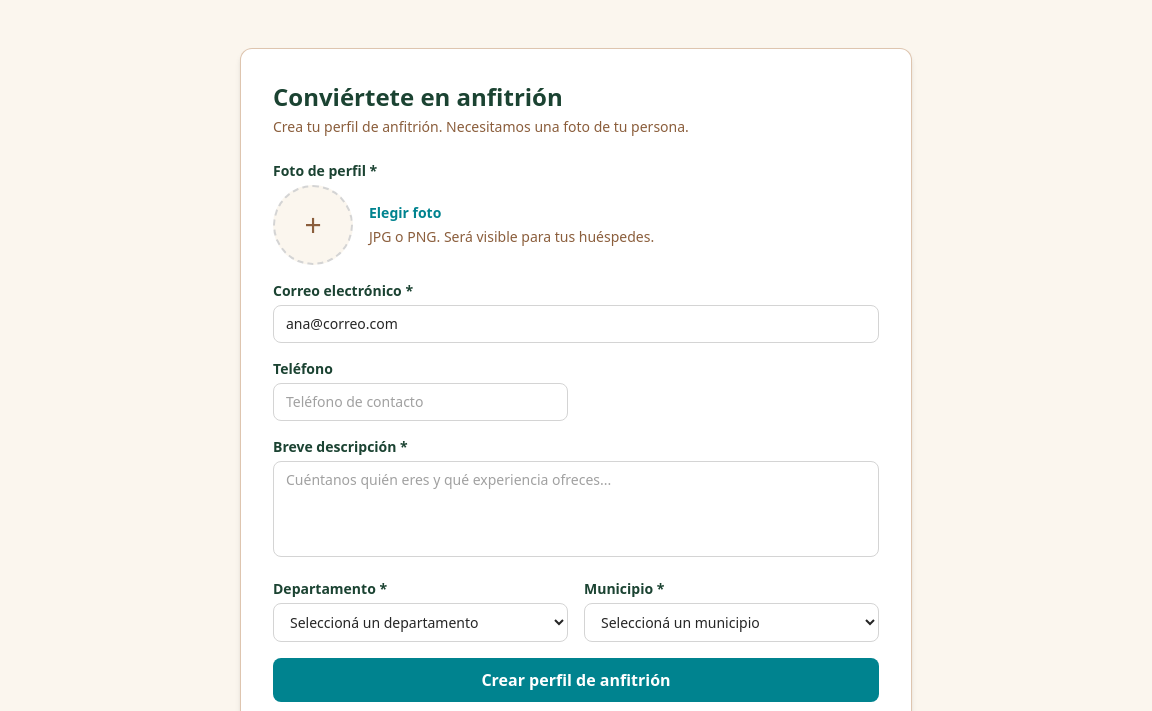
Scenario: ES active: extraction keeps the canonical Spanish UI byte-comparable › renders the original host-signup literals after moving them into resources
Expected: the heading reads "Conviértete en anfitrión", [273, 80, 563, 113]
Expected: the text "Crea tu perfil de anfitrión. Necesitamos una foto de tu persona." is shown, [273, 117, 689, 136]
Click the button "Crear perfil de anfitrión" at (576, 680), box [273, 658, 879, 702]
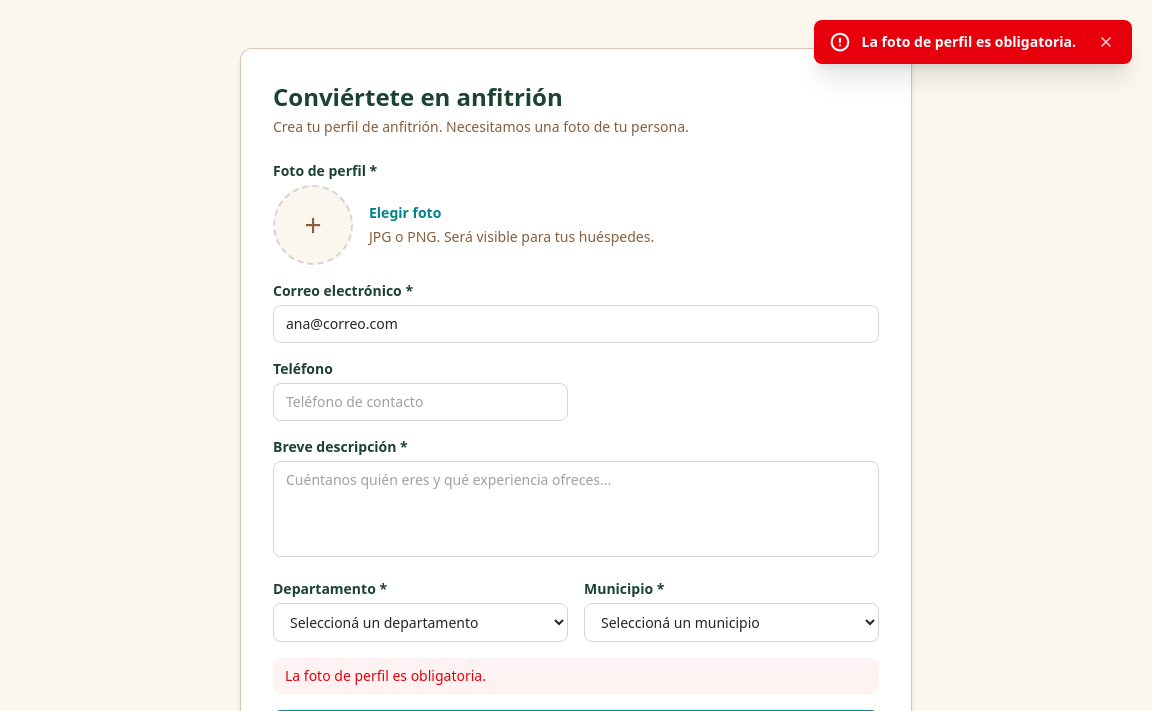
Result: the text "La foto de perfil es obligatoria." is shown 2 times at [273, 658, 879, 694]; [862, 32, 1076, 52]
